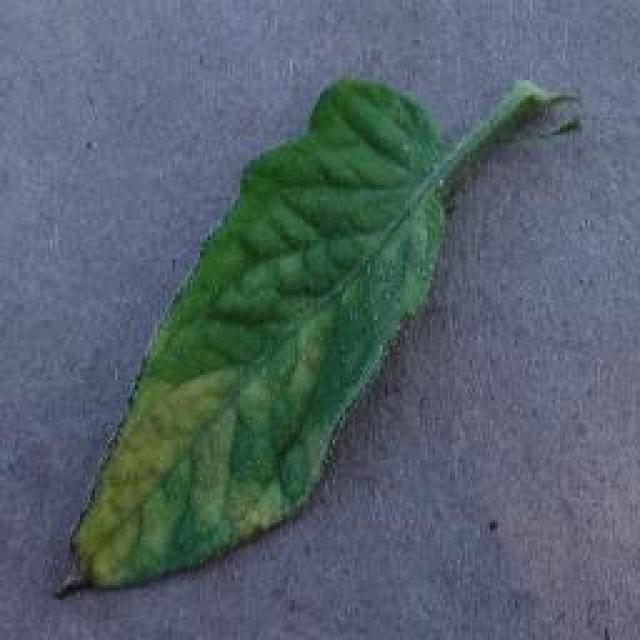Tomato___Leaf_Mold: (52, 80, 575, 598)
